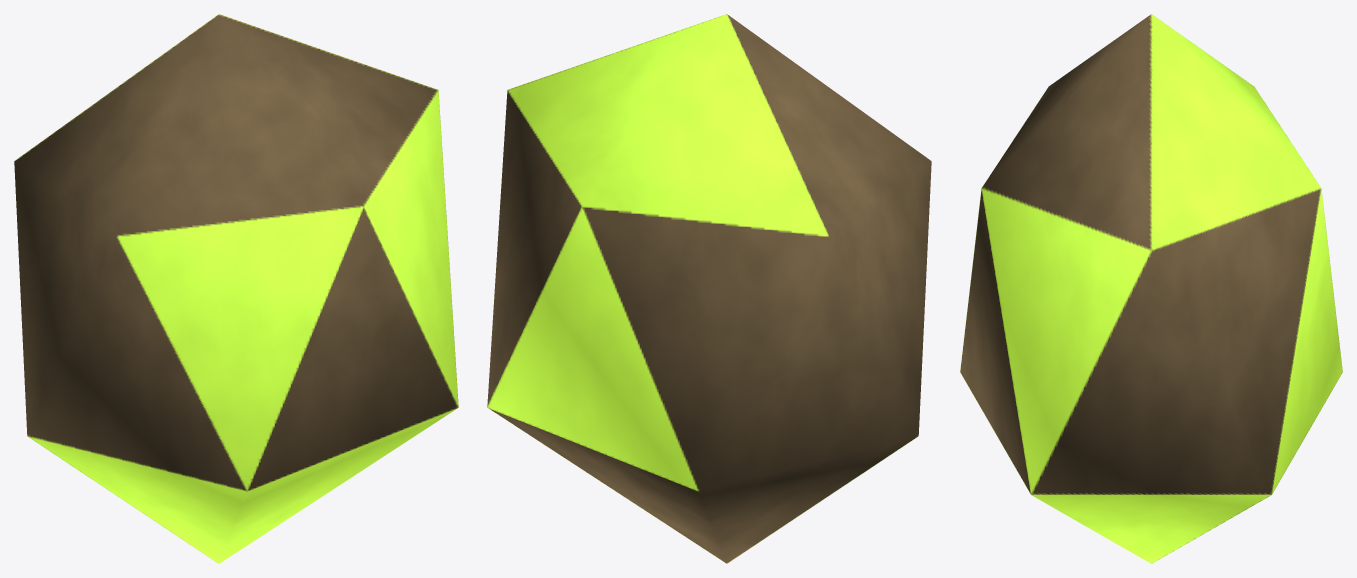
Rendered from boss_debris.glb.
3 renders of one model, left to right at view 1: azimuth 30°, elevation 25°; view 2: azimuth 150°, elevation 25°; view 3: azimuth 270°, elevation 25°, orthographic.
Visible parts, largest first — view 1: boss_debris_Mesh.001; view 2: boss_debris_Mesh.001; view 3: boss_debris_Mesh.001.
Boxes of the visible parts, x1,y1,x2,y2 form: boss_debris_Mesh.001: (14, 14, 458, 563); boss_debris_Mesh.001: (487, 14, 931, 563); boss_debris_Mesh.001: (960, 14, 1342, 563).
Bounding box in the file's own units: 0.2817 × 0.36 × 0.2271.
1 material, 1 textured.
